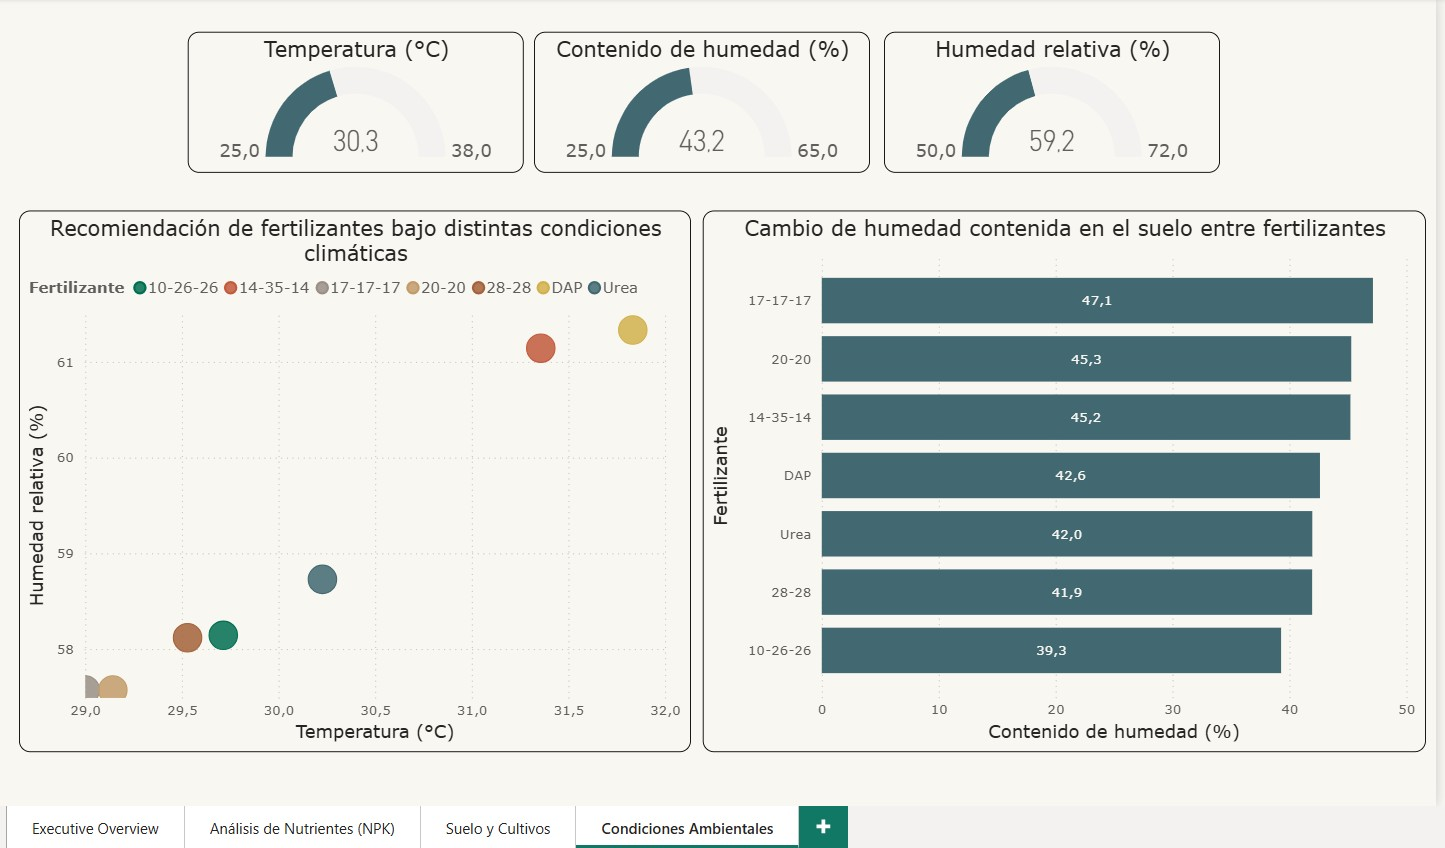

Layout of this report page (visuals, bound fields, positions):
{"tool":"powerbi","page":{"name":"Condiciones Ambientales","canvas":[1280,720],"ordinal":3},"visuals":[{"type":"scatterChart","title":"Recomiendación de fertilizantes bajo distintas condiciones climáticas","fields":{"X":["FactRecommendation.Prom_Temp"],"Y":["FactRecommendation.Prom_Humidity"],"Series":["DimFertilizer.Fertilizer_Name"]},"box":[18.4,189.7,598.5,482.2],"z":0},{"type":"gauge","fields":{"Y":["FactRecommendation.Prom_Temp"]},"box":[167.7,30.2,299.2,125.5],"z":1000},{"type":"gauge","fields":{"Y":["FactRecommendation.Prom_Moisture"]},"box":[476.5,30.2,299.2,125.5],"z":2000},{"type":"gauge","fields":{"Y":["FactRecommendation.Prom_Humidity"]},"box":[787.8,30.2,299.2,125.5],"z":3000},{"type":"clusteredBarChart","title":"Cambio de humedad contenida en el suelo entre fertilizantes","fields":{"Category":["DimFertilizer.Fertilizer_Name"],"Y":["Avg(FactRecommendation.Moisture)"]},"box":[626.7,189.7,643.8,482.2],"z":4000}]}

Visuals, with their boxes in screenshot pixels (x1, y1, x2, y2):
"Recomiendación de fertilizantes bajo distintas condiciones climáticas" scatterChart: left=20, top=207, right=687, bottom=744
gauge - FactRecommendation.Prom_Temp: left=187, top=30, right=520, bottom=170
gauge - FactRecommendation.Prom_Moisture: left=530, top=30, right=864, bottom=170
gauge - FactRecommendation.Prom_Humidity: left=877, top=30, right=1210, bottom=170
"Cambio de humedad contenida en el suelo entre fertilizantes" clusteredBarChart: left=698, top=207, right=1414, bottom=744
